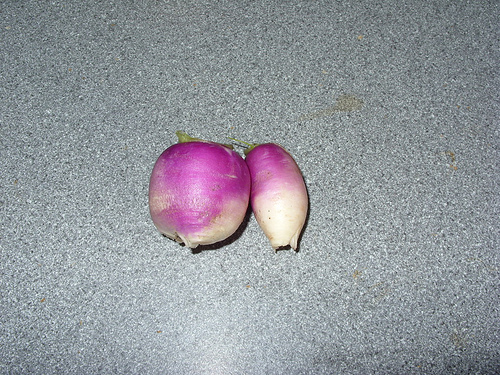turnip: (152, 141, 252, 250), (243, 141, 309, 251)
